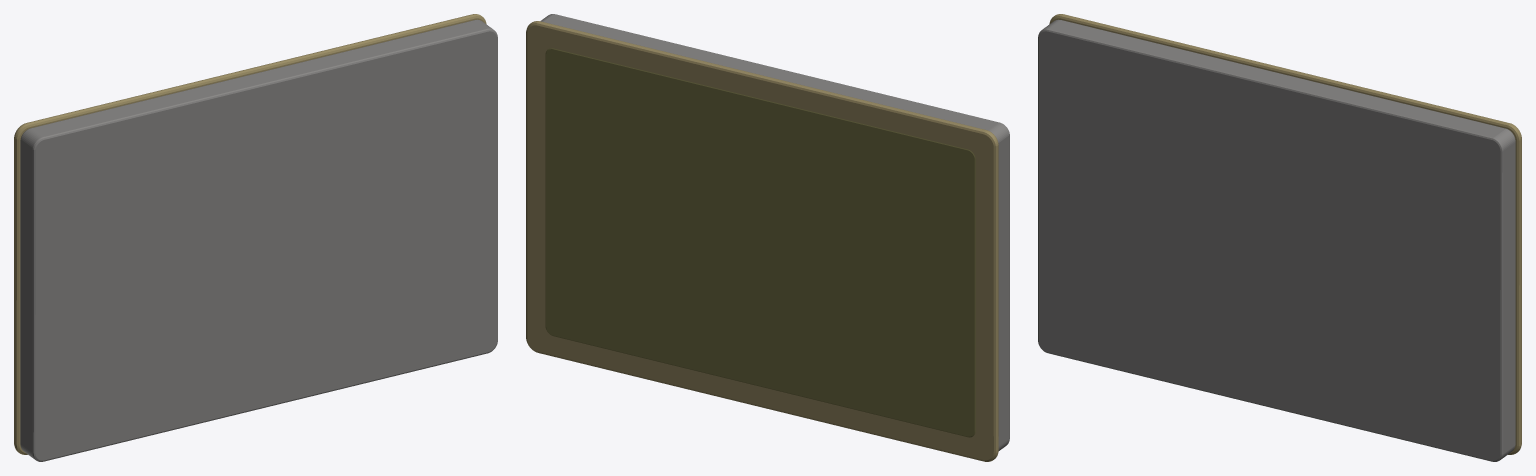
File: 23-plinth-base.glb
The picture shows the model from 3 angles, left to right: view 1: azimuth 30°, elevation 25°; view 2: azimuth 150°, elevation 25°; view 3: azimuth 330°, elevation 25°; orthographic projection.
Parts seen in each view (by area): view 1: Body, Rim; view 2: GreenTop, Rim, Body; view 3: Body, Rim.
Boxes of the visible parts, bbox=[...] form: Body: bbox=[20, 19, 497, 461]; Rim: bbox=[14, 14, 486, 454]; GreenTop: bbox=[545, 48, 975, 437]; Rim: bbox=[526, 21, 998, 461]; Body: bbox=[540, 14, 1009, 450]; Body: bbox=[1038, 19, 1515, 461]; Rim: bbox=[1049, 14, 1521, 454].
Bounding box in the file's own units: 3.04 × 2.04 × 0.199.
